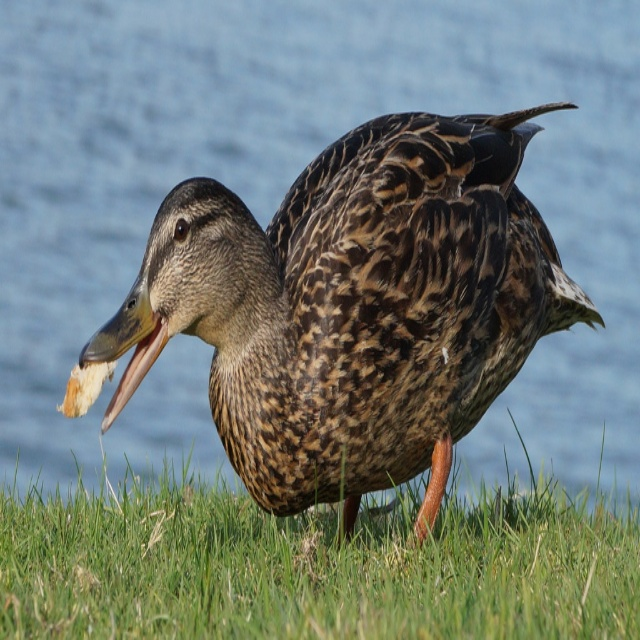Duck: (79, 102, 606, 554)
